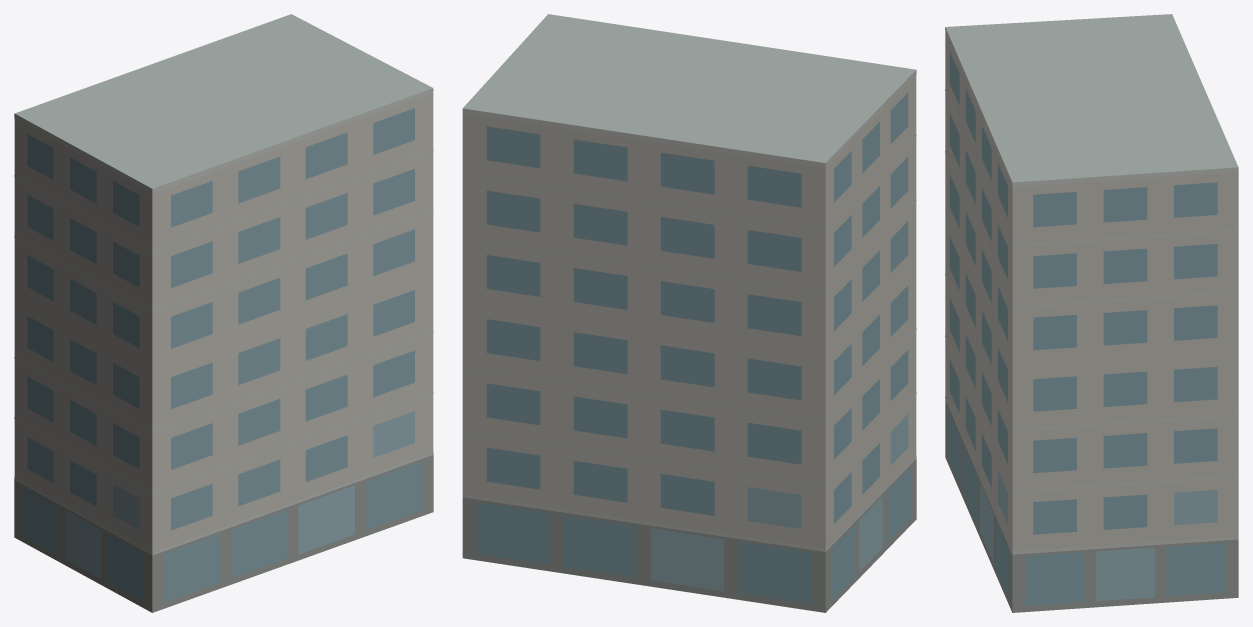
File: survey-upis-32906706.glb
The picture shows the model from 3 angles, left to right: view 1: azimuth 30°, elevation 25°; view 2: azimuth 150°, elevation 25°; view 3: azimuth 270°, elevation 25°; orthographic projection. The views are drawn at different scales.
Visible parts, largest first — view 1: survey-upis-32906706.tmp; view 2: survey-upis-32906706.tmp; view 3: survey-upis-32906706.tmp.
Boxes of the visible parts, x1,y1,x2,y2 form: survey-upis-32906706.tmp: (14, 14, 433, 612); survey-upis-32906706.tmp: (462, 14, 916, 612); survey-upis-32906706.tmp: (945, 14, 1238, 612).
Bounding box in the file's own units: 18.45 × 21.95 × 13.58.
